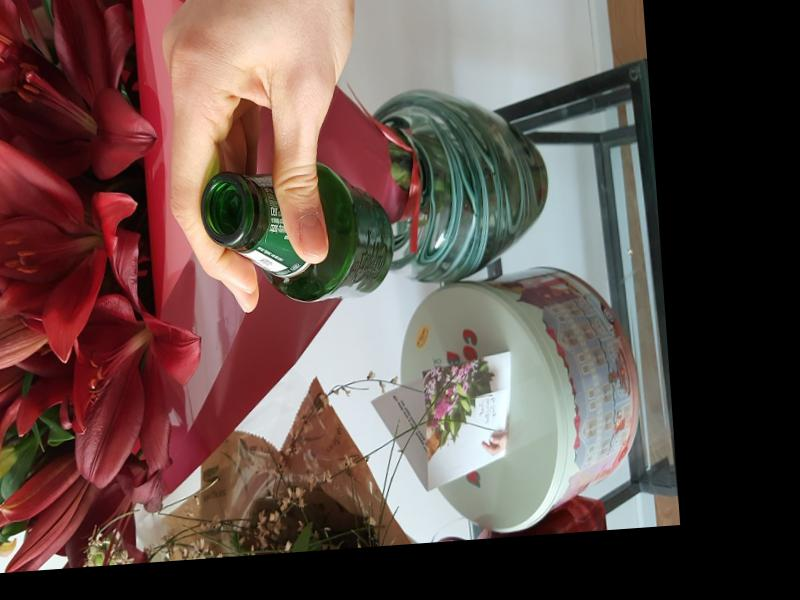Beer: (197, 155, 397, 308)
